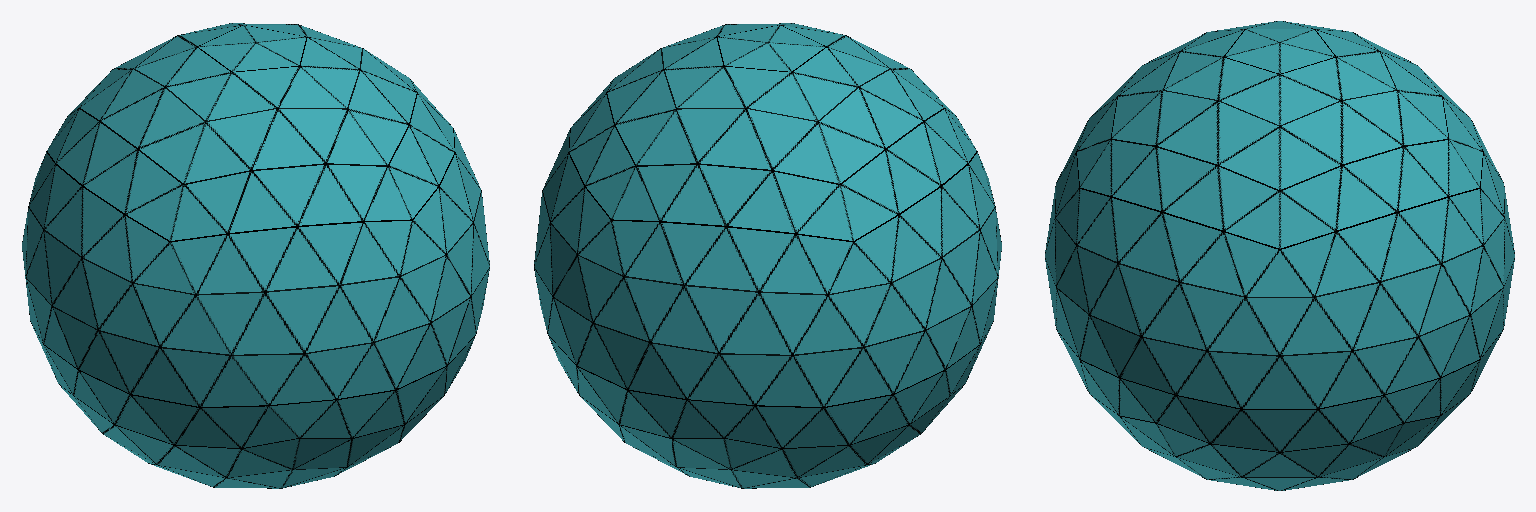
3 renders of one model, left to right at view 1: azimuth 30°, elevation 25°; view 2: azimuth 150°, elevation 25°; view 3: azimuth 270°, elevation 25°, orthographic.
Visible parts, largest first — view 1: Icosphere; view 2: Icosphere; view 3: Icosphere.
Part boxes in pixels (x1,y1,x2,y2): Icosphere: (22,23,489,488); Icosphere: (534,23,1001,488); Icosphere: (1045,21,1514,490).
Size of the model in its own units: 2 by 2 by 2.
1 materials, 1 textured.